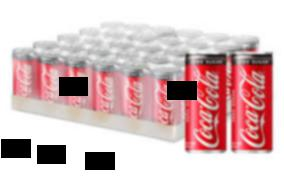cocacola_zero: (185, 50, 229, 155), (231, 51, 274, 155)
